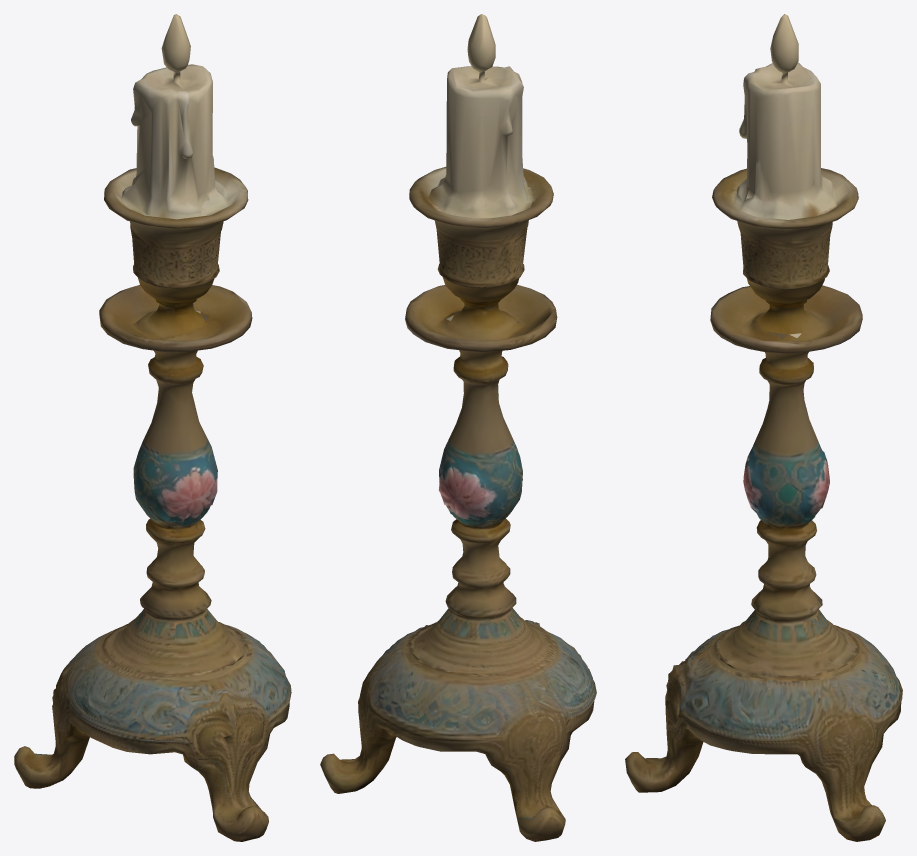
File: zhutai.glb
The picture shows the model from 3 angles, left to right: view 1: azimuth 30°, elevation 25°; view 2: azimuth 150°, elevation 25°; view 3: azimuth 270°, elevation 25°; orthographic projection.
Visible parts, largest first — view 1: 烛台; view 2: 烛台; view 3: 烛台.
Part boxes in pixels (bbox=[...]): 烛台: bbox=[14, 14, 291, 841]; 烛台: bbox=[320, 14, 596, 841]; 烛台: bbox=[625, 14, 902, 841].
Bounding box in the file's own units: 0.3927 × 1.2 × 0.3912.
1 material, 1 textured.
